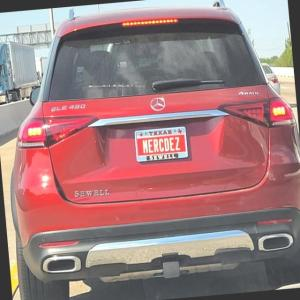Plate: (134, 126, 188, 162)
